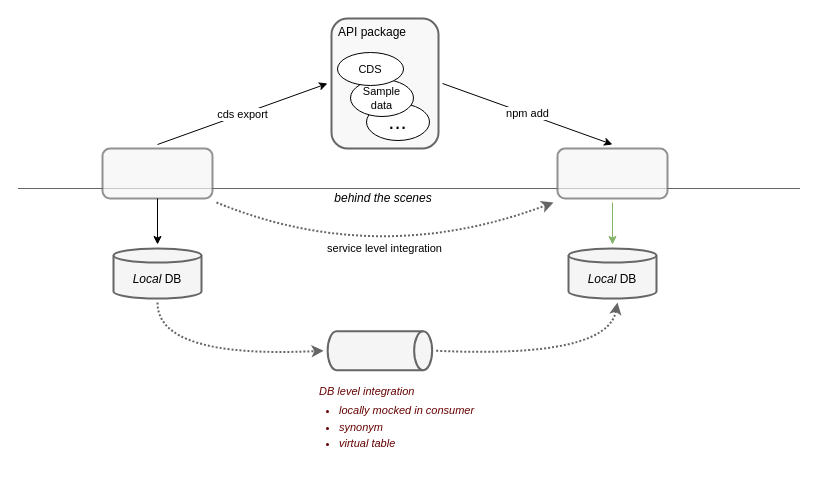
The diagram is 818 pixels wide and 491 high, and some of its shapes have lost their labels. The centre of each missing label's shape, as x and y in pixels:
Consumer Service: pixel 612 173
Producer: pixel 157 173
